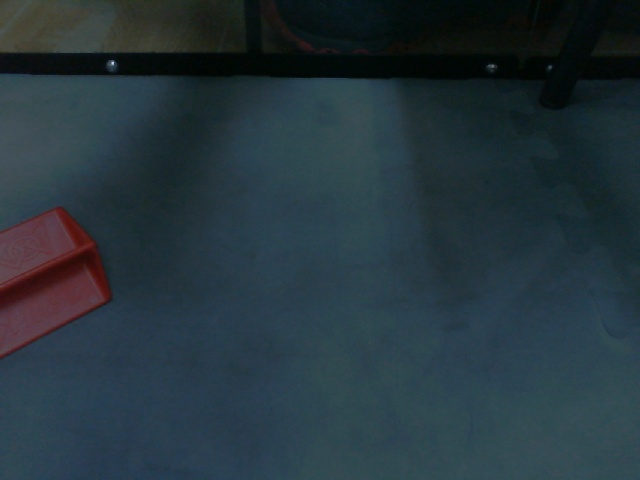RedSample: (1, 205, 114, 361)
